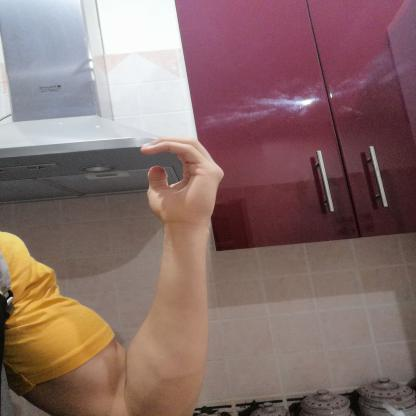JEEM: (122, 126, 240, 235)
